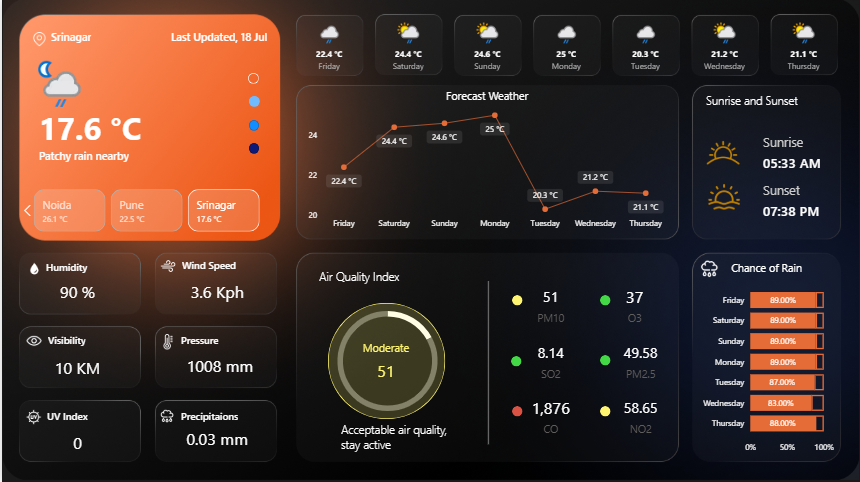

Layout of this report page (visuals, bound fields, positions):
{"tool":"powerbi","page":{"name":"Page 1","canvas":[1280,720],"ordinal":0},"visuals":[{"type":"donutChart","fields":{"Y":["Sum(Current.current.air_quality.pm10)","_Measures.Left_Value_PM10"]},"box":[453.7,440.3,243.3,197],"z":0},{"type":"advancedSlicerVisual","fields":{"Values":["Locations.location.name"]},"box":[22.4,277.6,389.6,73.1],"z":1000},{"type":"shape","box":[54.9,156.1,166.3,65.1],"z":2000},{"type":"shape","box":[54.9,216.9,357.1,33.3],"z":3000},{"type":"shape","box":[73.1,39,131.3,32.8],"z":4000},{"type":"shape","box":[229.9,38.8,166.3,33.3],"z":5000},{"type":"cardVisual","fields":{"Data":["Min(Current.current.condition.icon)"]},"box":[24.6,68,107,96.9],"z":6000},{"type":"shape","box":[68.7,491,131.3,34.3],"z":7000},{"type":"shape","box":[65.7,382.1,131.3,32.8],"z":8000},{"type":"shape","box":[268.7,379.1,131.3,32.8],"z":9000},{"type":"shape","box":[267.2,491,131.3,34.3],"z":10000},{"type":"shape","box":[267.2,604.5,131.3,32.8],"z":11000},{"type":"shape","box":[67.2,604.5,131.3,32.8],"z":12000},{"type":"card","fields":{"Values":["_Measures.Humidity"]},"box":[68,412,88.2,49.2],"z":13000},{"type":"card","fields":{"Values":["_Measures.Wind_Speed"]},"box":[263.1,412,117.1,49.2],"z":14000},{"type":"card","fields":{"Values":["_Measures.Pressure"]},"box":[260.2,521.9,131.6,49.2],"z":15000},{"type":"card","fields":{"Values":["_Measures.Precipitation"]},"box":[263.1,631.8,117.1,49.2],"z":16000},{"type":"card","fields":{"Values":["Sum(Current.current.uv)"]},"box":[68,637.6,88.2,49.2],"z":17000},{"type":"card","fields":{"Values":["_Measures.Visibility"]},"box":[68,524.8,88.2,49.2],"z":18000},{"type":"advancedSlicerVisual","fields":{"Values":["Forecast_Day.Day_Name"]},"box":[428,23.1,832.8,94],"z":19000},{"type":"lineChart","title":"Forecast Weather","fields":{"Y":["Sum(Forecast_Day.forecast.forecastday.day.avgtemp_c)"],"Category":["Forecast_Day.Day_Name"]},"box":[452.5,133,543.6,218.3],"z":20000},{"type":"shape","box":[1050.9,132.9,152.7,33.6],"z":21000},{"type":"shape","box":[1136.3,190,112.8,44.8],"z":22000},{"type":"shape","box":[1136.3,250.7,112.8,65.1],"z":23000},{"type":"shape","box":[1136.3,221.8,112.8,40.5],"z":24000},{"type":"shape","box":[1136.3,282.5,112.8,65.1],"z":25000},{"type":"hundredPercentStackedBarChart","title":"Chance of Rain","fields":{"Category":["Forecast_Day.Day_Name"],"Y":["Sum(Forecast_Day.forecast.forecastday.day.daily_chance_of_rain)","_Measures.Left_Value_Rain"]},"box":[1035.6,389.5,210.8,296.3],"z":26000},{"type":"shape","box":[473.5,395.6,152.7,33.6],"z":27000},{"type":"card","fields":{"Values":["Sum(Current.current.air_quality.o3)"]},"box":[893.2,419.9,103.8,70.8],"z":28000},{"type":"card","fields":{"Values":["Sum(Current.current.air_quality.pm10)"]},"box":[767.8,419.9,103.8,70.8],"z":29000},{"type":"card","fields":{"Values":["Sum(Current.current.air_quality.co)"]},"box":[767.8,585,103.8,70.8],"z":30000},{"type":"card","fields":{"Values":["Sum(Current.current.air_quality.so2)"]},"box":[767.8,503.2,103.8,70.8],"z":31000},{"type":"card","fields":{"Values":["Sum(Current.current.air_quality.pm2_5)"]},"box":[901,503.2,103.8,70.8],"z":32000},{"type":"card","fields":{"Values":["Sum(Current.current.air_quality.no2)"]},"box":[901,585,103.8,70.8],"z":33000},{"type":"shape","box":[761.1,440.3,15.7,15.7],"z":34000},{"type":"shape","box":[761.1,605.4,15.7,15.7],"z":35000},{"type":"shape","box":[759.5,531.5,15.7,15.7],"z":36000},{"type":"shape","box":[893.2,440.3,15.7,15.7],"z":37000},{"type":"shape","box":[893.2,529.9,15.7,15.7],"z":38000},{"type":"shape","box":[893.2,605.4,15.7,15.7],"z":39000},{"type":"shape","box":[684,419.9,84.9,243.7],"z":40000},{"type":"shape","box":[487.1,452.2,175,173.1],"z":41000,"group":"g1"},{"type":"shape","box":[506,626,190.8,52],"z":41000},{"type":"group","id":"g1","title":"Group 1","box":[487.1,452.2,175,173.1],"z":42000},{"type":"card","fields":{"Values":["Sum(Current.current.air_quality.pm10)"]},"box":[522.4,509.6,101.5,70.6],"z":42000,"group":"g1"},{"type":"shape","box":[367.7,109,16.4,16],"z":43000},{"type":"shape","box":[368.5,143.8,16,16],"z":44000},{"type":"shape","box":[368.5,178.6,14.9,16],"z":45000},{"type":"shape","box":[368.7,213.4,14.9,16],"z":46000},{"type":"image","box":[34.3,379.1,28.4,43.3],"z":47000},{"type":"image","box":[39.7,41.2,30.9,33.8],"z":48000},{"type":"image","box":[1035.8,379.1,40.3,43.3],"z":49000},{"type":"image","box":[229.9,601.5,32.8,38.8],"z":50000},{"type":"image","box":[1049.3,261.2,56.7,65.7],"z":51000},{"type":"image","box":[1038.8,189.6,74.6,76.1],"z":52000},{"type":"image","box":[231.3,489.6,32.8,41.8],"z":53000},{"type":"image","box":[29.9,606,34.3,32.8],"z":54000},{"type":"image","box":[29.9,489.6,35.8,37.3],"z":55000},{"type":"image","box":[231.3,377.6,32.8,38.8],"z":56000}]}

Visuals, with their boxes in screenshot pixels (x1, y1, x2, y2), scaled from the page's 1280x720 canvas onto the 860x482 screenshot:
donutChart - Sum(Current.current.air_quality.pm10) x _Measures.Left_Value_PM10: crop(305, 295, 468, 427)
advancedSlicerVisual - Locations.location.name: crop(15, 186, 277, 235)
shape: crop(37, 105, 149, 148)
shape: crop(37, 145, 277, 167)
shape: crop(49, 26, 137, 48)
shape: crop(154, 26, 266, 48)
cardVisual - Min(Current.current.condition.icon): crop(17, 46, 88, 110)
shape: crop(46, 329, 134, 352)
shape: crop(44, 256, 132, 278)
shape: crop(181, 254, 269, 276)
shape: crop(180, 329, 268, 352)
shape: crop(180, 405, 268, 427)
shape: crop(45, 405, 133, 427)
card - _Measures.Humidity: crop(46, 276, 105, 309)
card - _Measures.Wind_Speed: crop(177, 276, 255, 309)
card - _Measures.Pressure: crop(175, 349, 263, 382)
card - _Measures.Precipitation: crop(177, 423, 255, 456)
card - Sum(Current.current.uv): crop(46, 427, 105, 460)
card - _Measures.Visibility: crop(46, 351, 105, 384)
advancedSlicerVisual - Forecast_Day.Day_Name: crop(288, 15, 847, 78)
"Forecast Weather" lineChart: crop(304, 89, 669, 235)
shape: crop(706, 89, 809, 111)
shape: crop(763, 127, 839, 157)
shape: crop(763, 168, 839, 211)
shape: crop(763, 148, 839, 176)
shape: crop(763, 189, 839, 233)
"Chance of Rain" hundredPercentStackedBarChart: crop(696, 261, 837, 459)
shape: crop(318, 265, 421, 287)
card - Sum(Current.current.air_quality.o3): crop(600, 281, 670, 328)
card - Sum(Current.current.air_quality.pm10): crop(516, 281, 586, 328)
card - Sum(Current.current.air_quality.co): crop(516, 392, 586, 439)
card - Sum(Current.current.air_quality.so2): crop(516, 337, 586, 384)
card - Sum(Current.current.air_quality.pm2_5): crop(605, 337, 675, 384)
card - Sum(Current.current.air_quality.no2): crop(605, 392, 675, 439)
shape: crop(511, 295, 522, 305)
shape: crop(511, 405, 522, 416)
shape: crop(510, 356, 521, 366)
shape: crop(600, 295, 611, 305)
shape: crop(600, 355, 611, 365)
shape: crop(600, 405, 611, 416)
shape: crop(460, 281, 517, 444)
shape: crop(327, 303, 445, 419)
shape: crop(340, 419, 468, 454)
"Group 1" group: crop(327, 303, 445, 419)
card - Sum(Current.current.air_quality.pm10): crop(351, 341, 419, 388)
shape: crop(247, 73, 258, 84)
shape: crop(248, 96, 258, 107)
shape: crop(248, 120, 258, 130)
shape: crop(248, 143, 258, 154)
image: crop(23, 254, 42, 283)
image: crop(27, 28, 47, 50)
image: crop(696, 254, 723, 283)
image: crop(154, 403, 177, 429)
image: crop(705, 175, 743, 219)
image: crop(698, 127, 748, 178)
image: crop(155, 328, 177, 356)
image: crop(20, 406, 43, 428)
image: crop(20, 328, 44, 353)
image: crop(155, 253, 177, 279)
